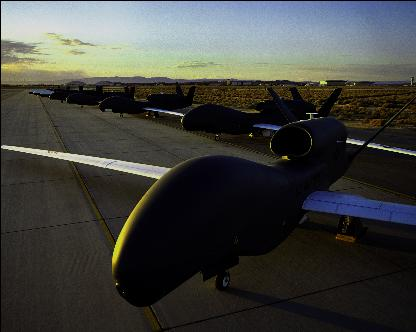P3: (1, 86, 415, 308), (141, 86, 415, 158), (96, 85, 194, 116), (64, 86, 134, 106), (48, 84, 102, 101), (38, 86, 81, 96), (32, 86, 68, 94), (27, 85, 58, 93)
